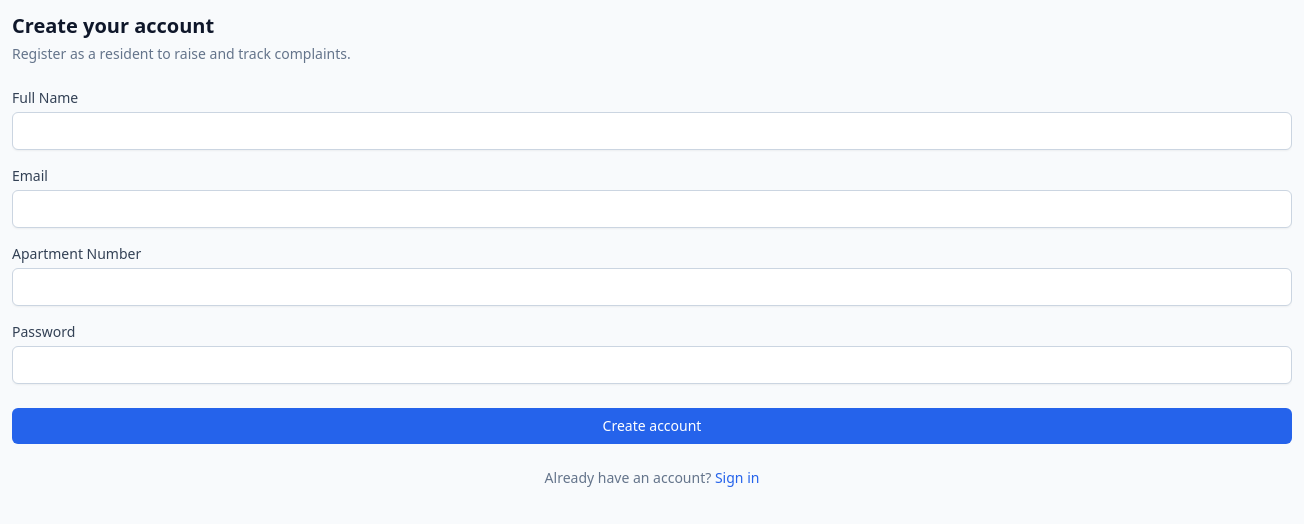
Test: Registration validation › requires a password of at least 8 characters
Type "New Resident" into the field labelled "Full Name" at (652, 131), box [12,112,1292,150]
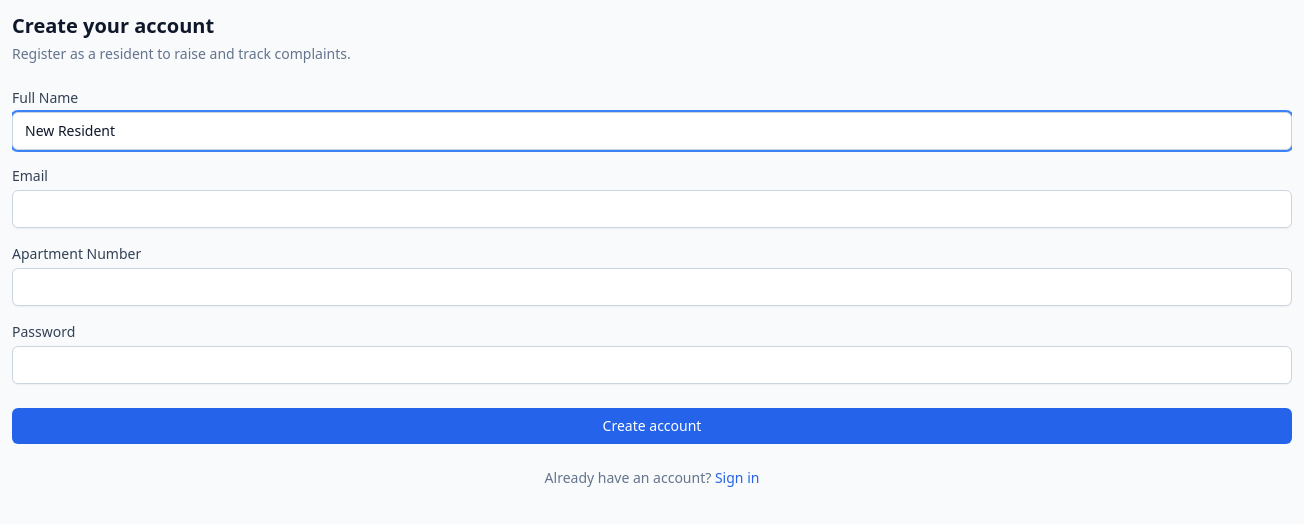
Type "new@example.com" into the field labelled "Email" at (652, 209), box [12,190,1292,228]
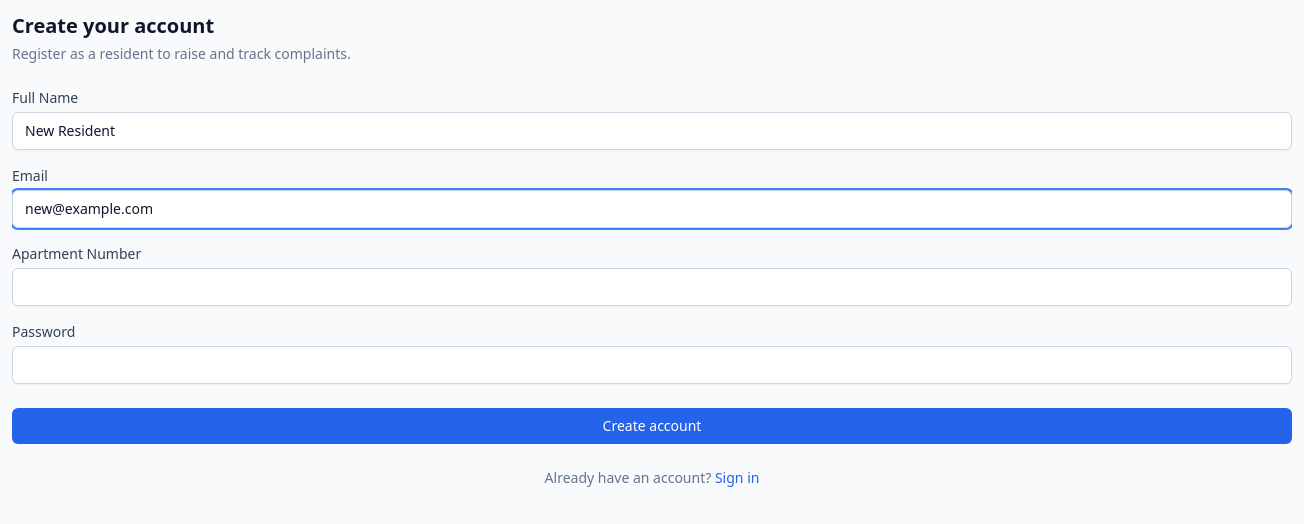
Type "A-101" into the field labelled "Apartment Number" at (652, 287), box [12,268,1292,306]
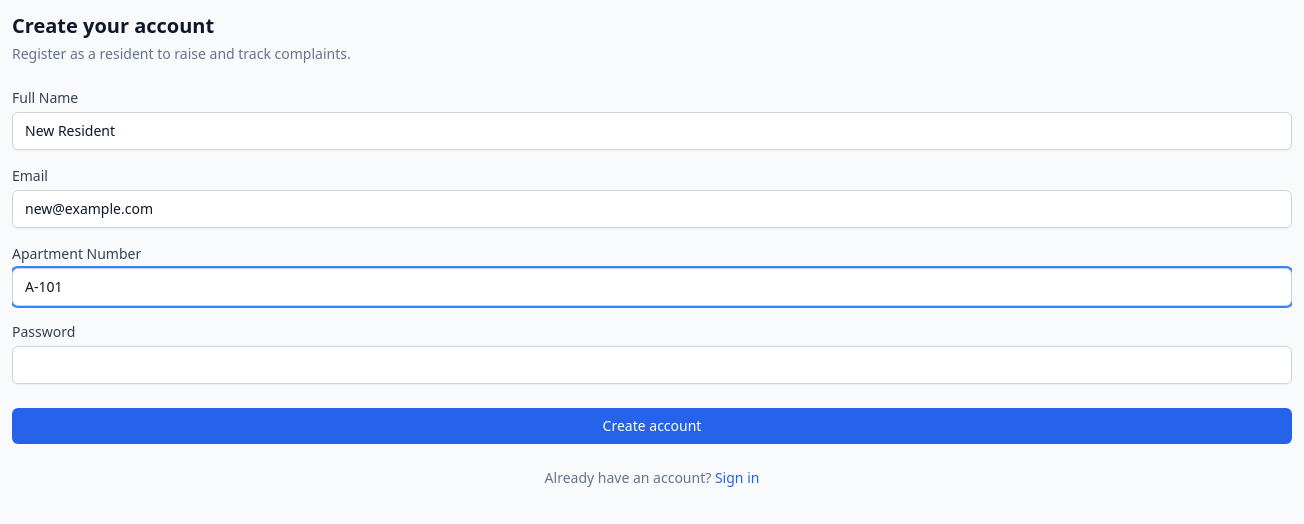
Type "short" into the password field labelled "Password" at (652, 365), box [12,346,1292,384]
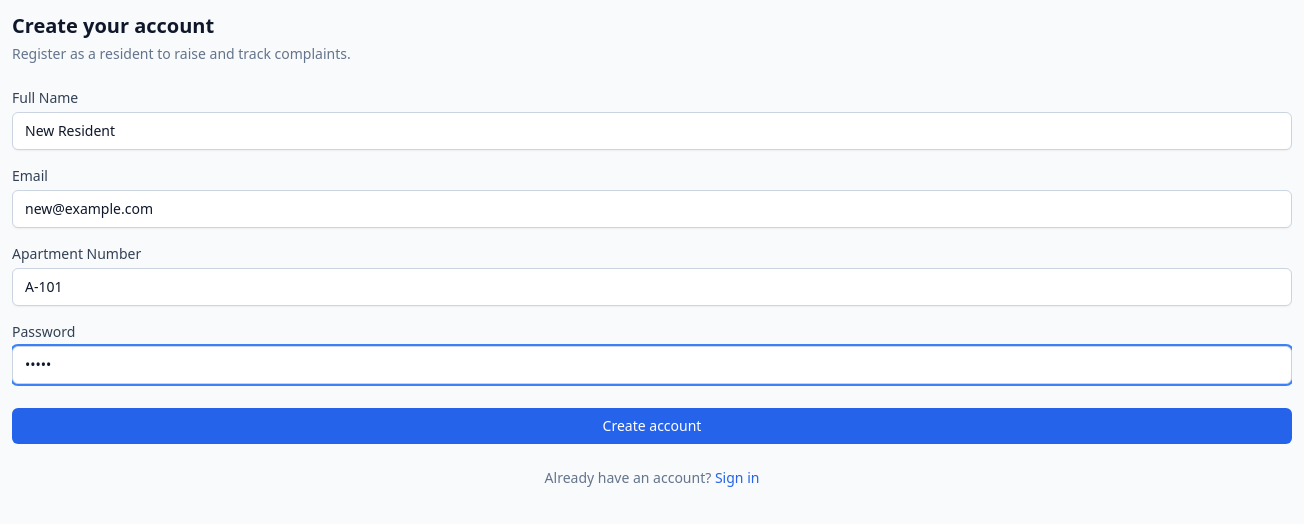
Click the button "Create account" at (652, 426), box [12,408,1292,444]
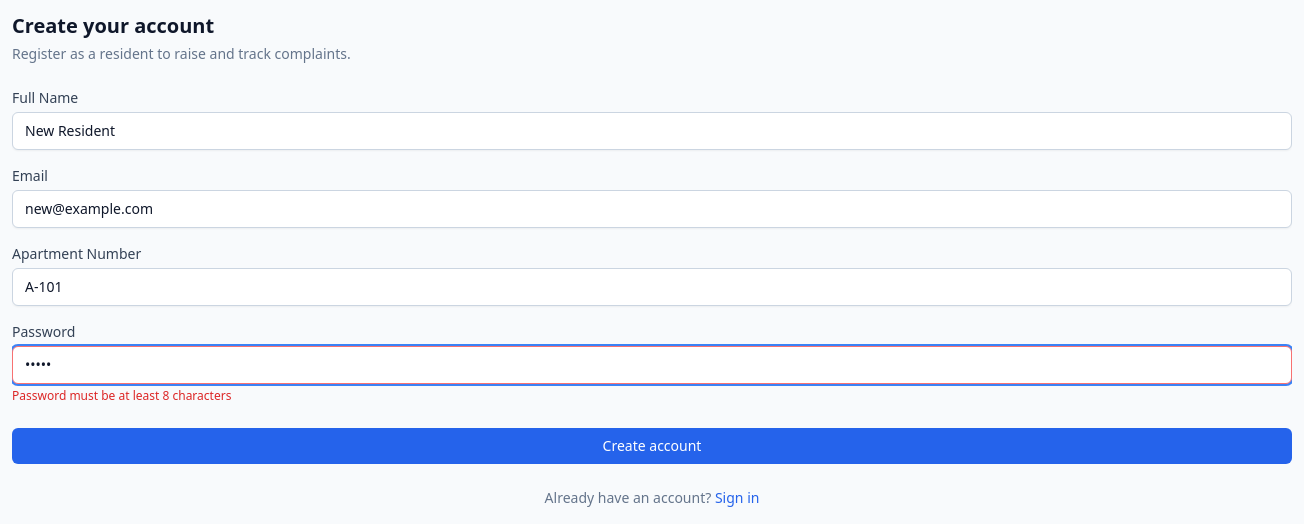
Expected: the text "Password must be at least 8 characters" is shown, [12,387,231,404]
